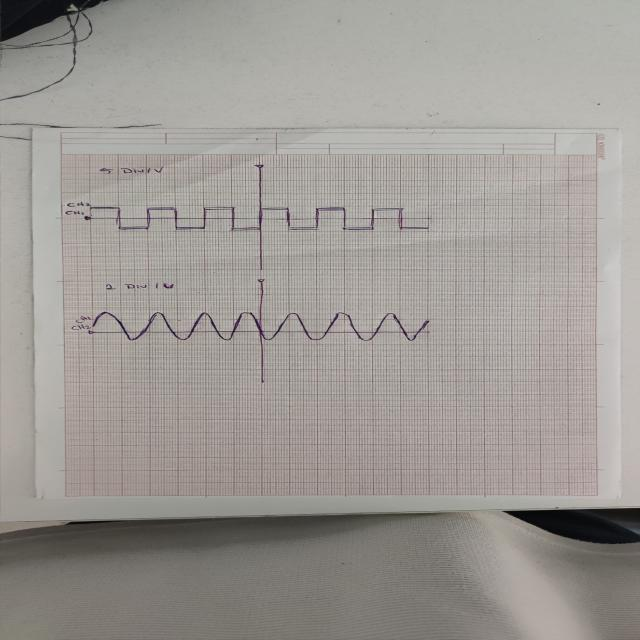image: (59, 158, 448, 266), (69, 274, 448, 372)
